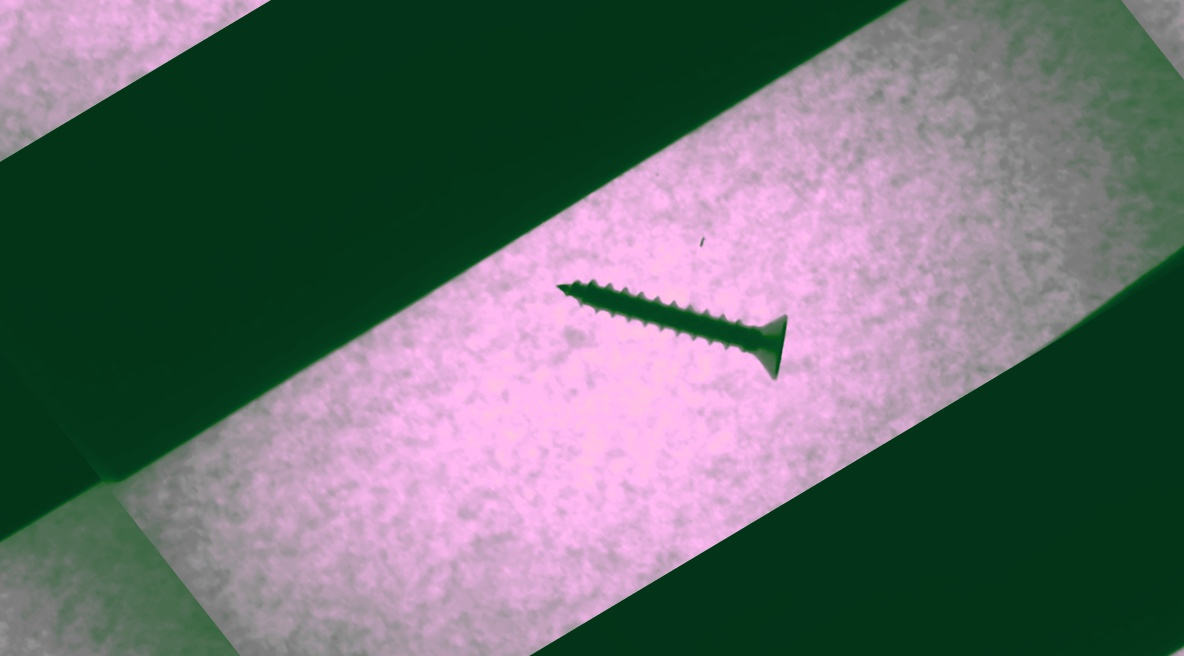S001: (460, 160, 856, 496)
